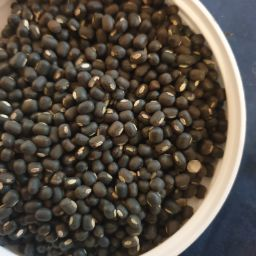Black Gram(urad daal): (6, 4, 151, 256), (85, 13, 227, 226), (2, 3, 222, 126), (1, 141, 209, 256)
